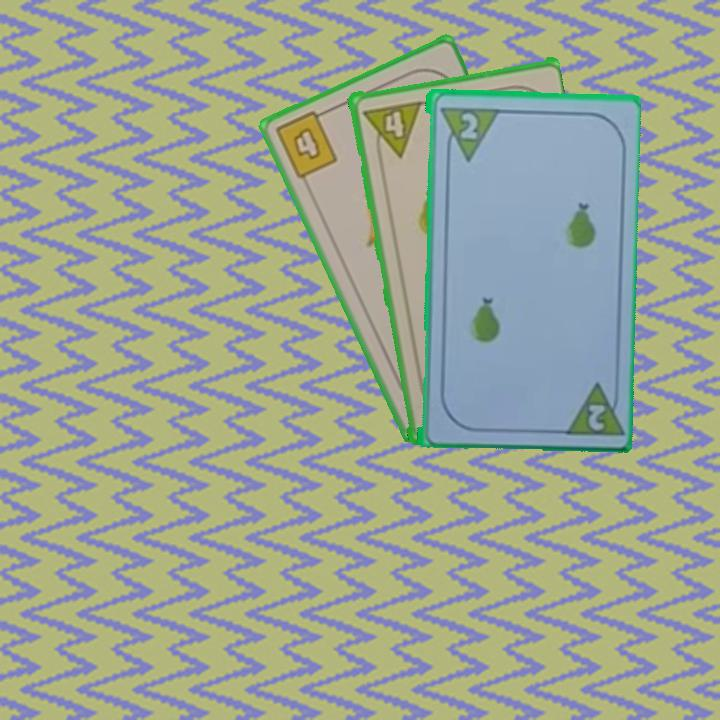2p: (558, 377, 623, 439), (456, 109, 480, 142)
4b: (271, 105, 341, 182)
4p: (358, 97, 423, 162)
